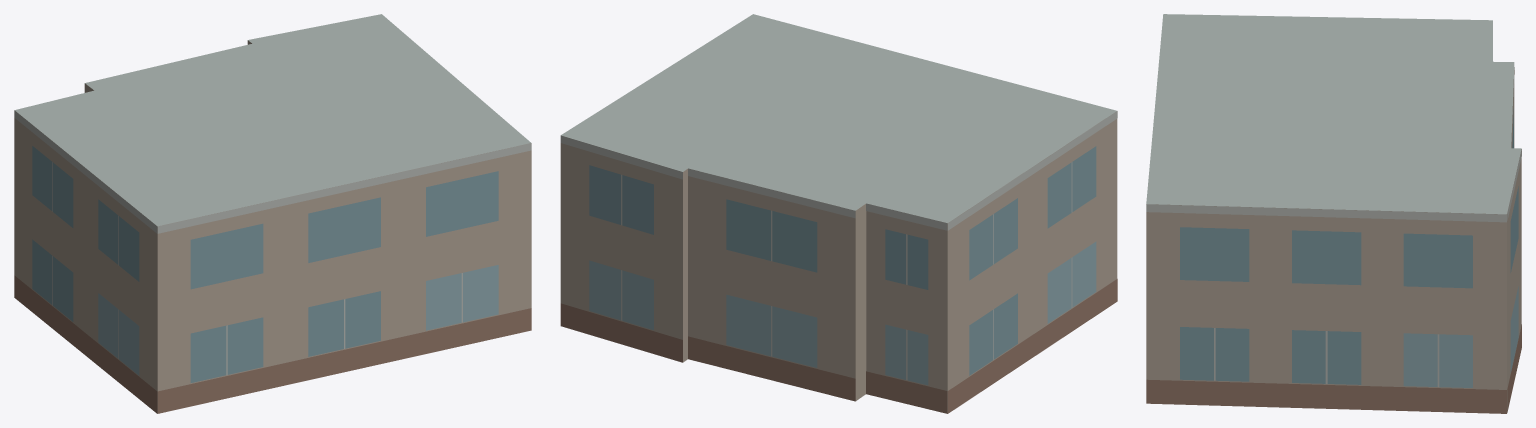
The model's file is survey-upis-32890277.glb.
The picture shows the model from 3 angles, left to right: view 1: azimuth 30°, elevation 25°; view 2: azimuth 150°, elevation 25°; view 3: azimuth 270°, elevation 25°; orthographic projection. The views are drawn at different scales.
Parts seen in each view (by area): view 1: survey-upis-32890277.tmp; view 2: survey-upis-32890277.tmp; view 3: survey-upis-32890277.tmp.
Part boxes in pixels (x1,y1,x2,y2): survey-upis-32890277.tmp: [14, 14, 531, 413]; survey-upis-32890277.tmp: [560, 14, 1117, 413]; survey-upis-32890277.tmp: [1146, 14, 1521, 413].
Size of the model in its own units: 13.15 by 6.1 by 10.42.
